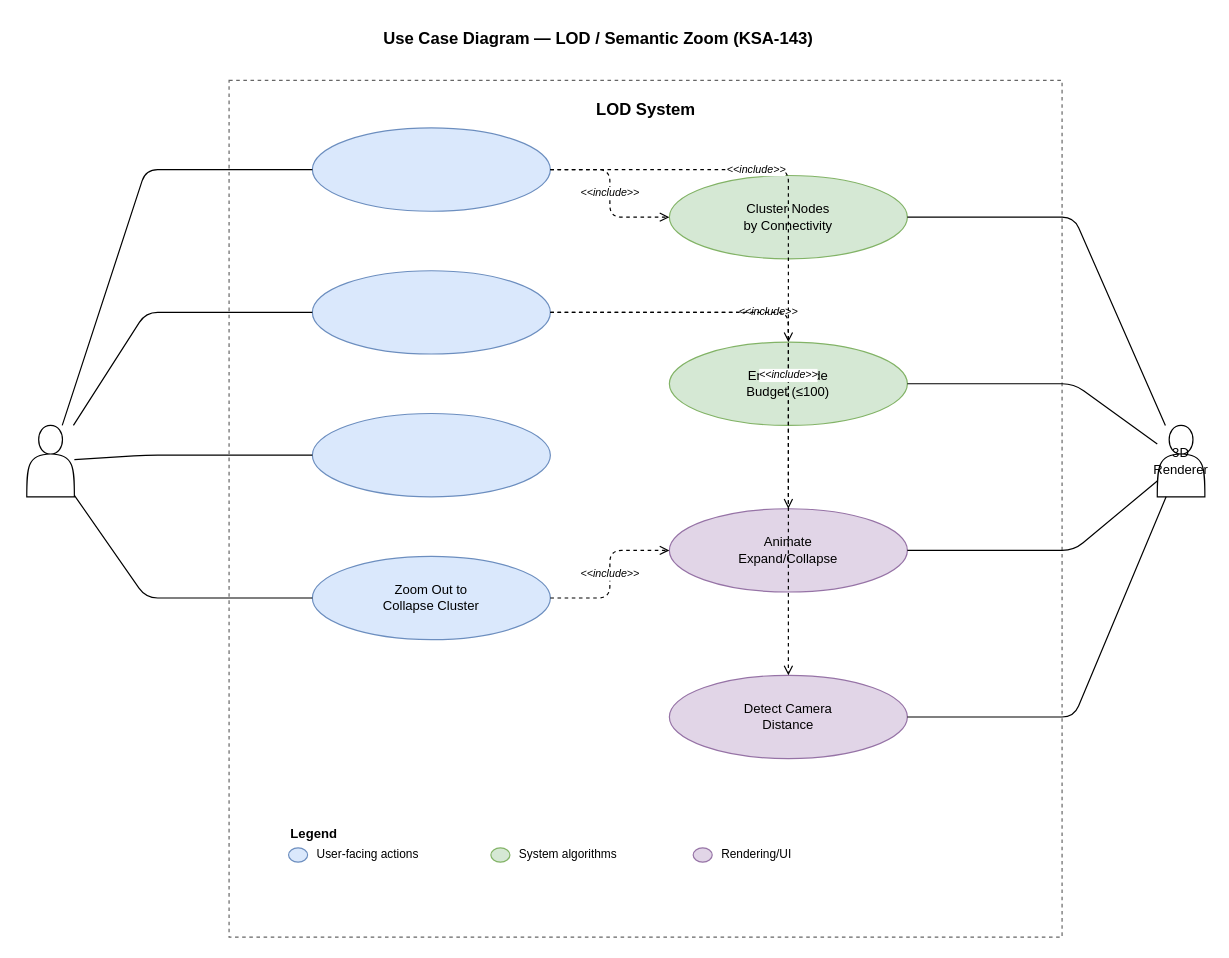
The diagram is 1229 pixels wide and 958 high, and some of its shapes have lost their labels. Each missing label, with the centre of its shape:
Developer: (x=50, y=460)
Navigate Large Graph: (x=430, y=169)
View Child Node Count: (x=430, y=454)
Zoom Into Super Node: (x=430, y=312)
